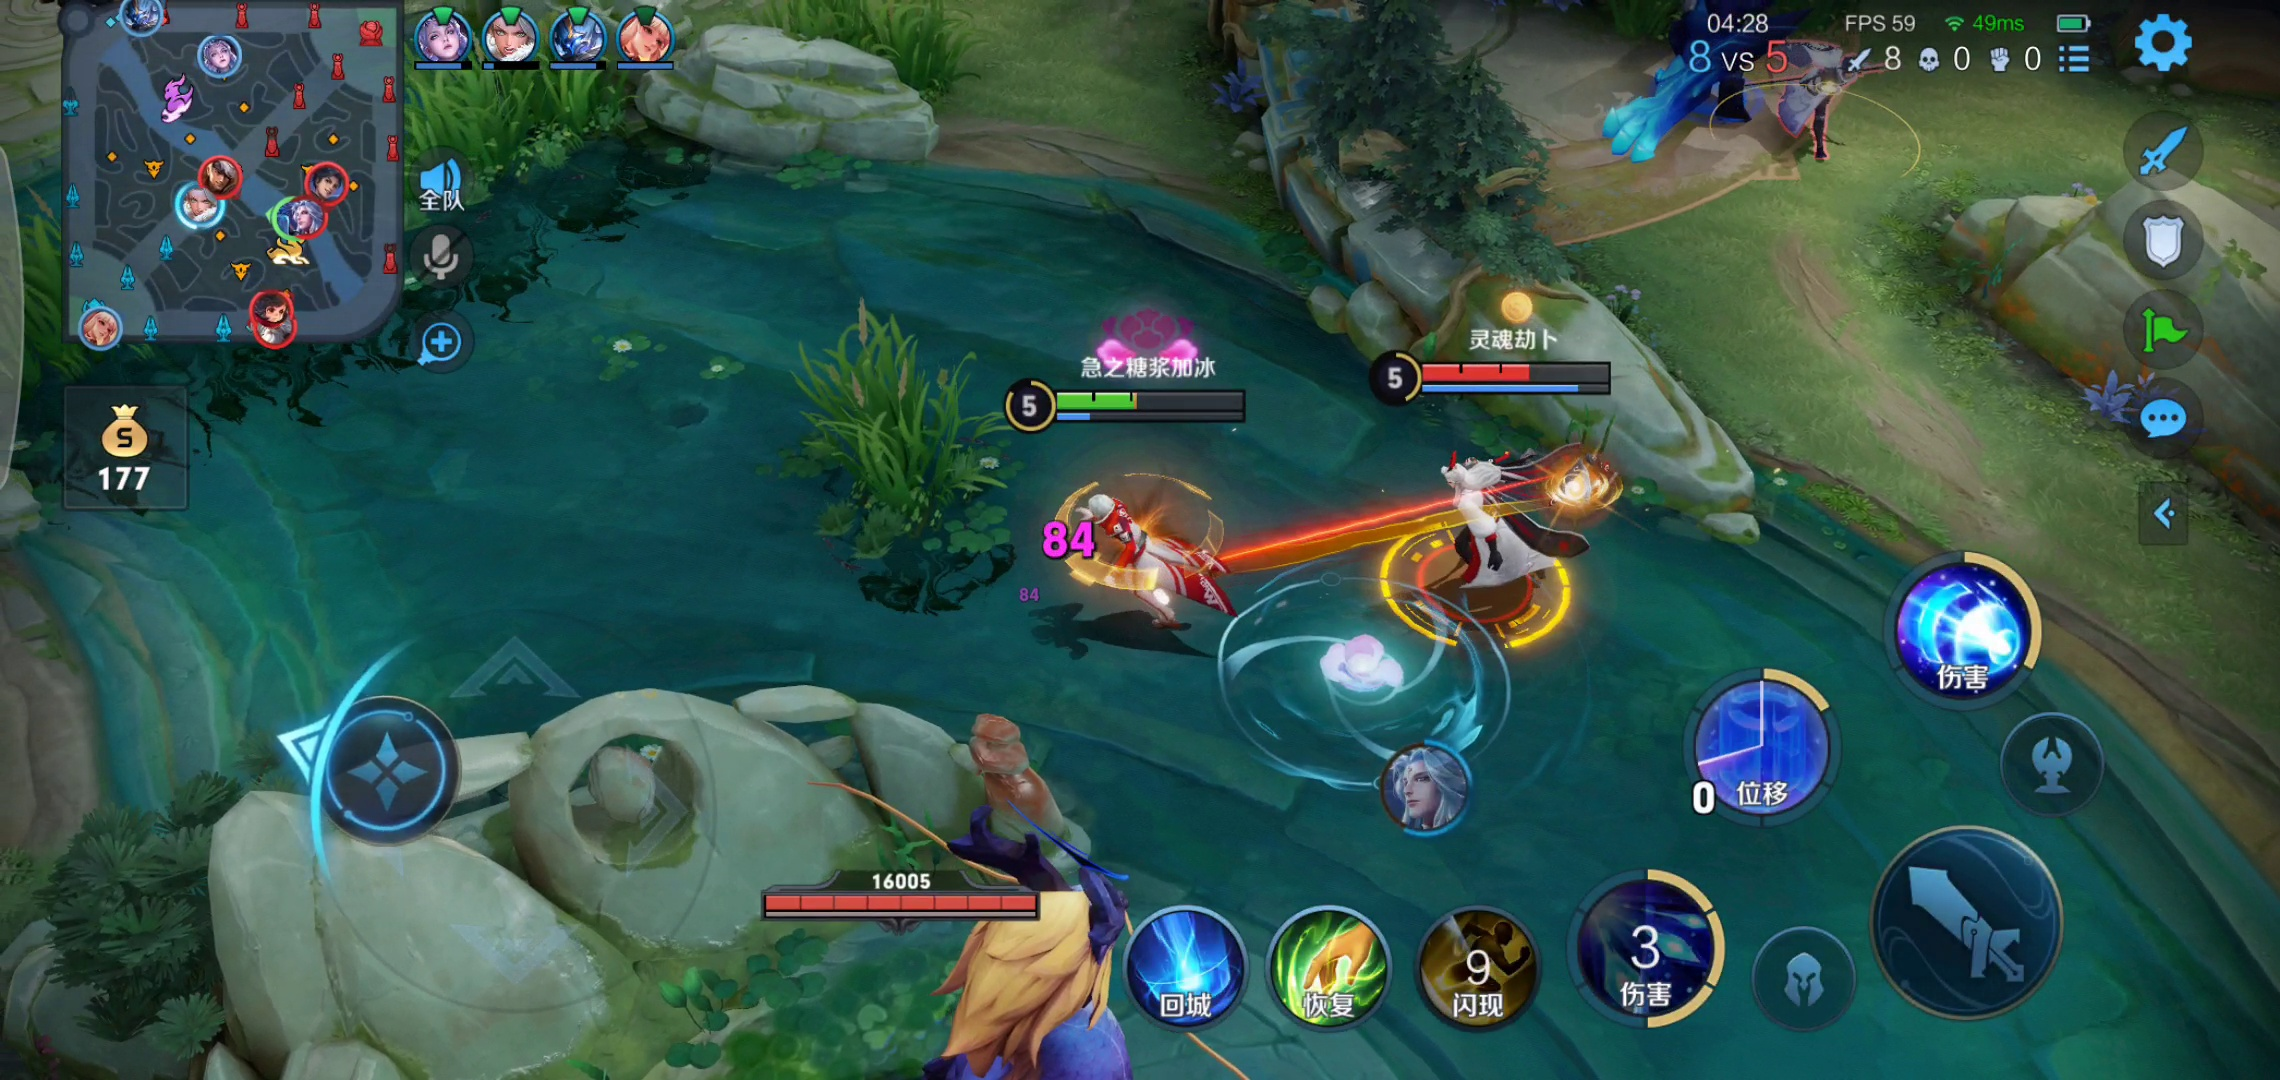buff: (1595, 1, 1794, 147)
dragon: (830, 840, 1165, 1080)
grass: (779, 307, 1003, 557), (403, 70, 638, 260), (734, 1, 989, 124)
hero: (1387, 436, 1629, 654), (1044, 471, 1237, 635), (1768, 28, 1852, 198)
